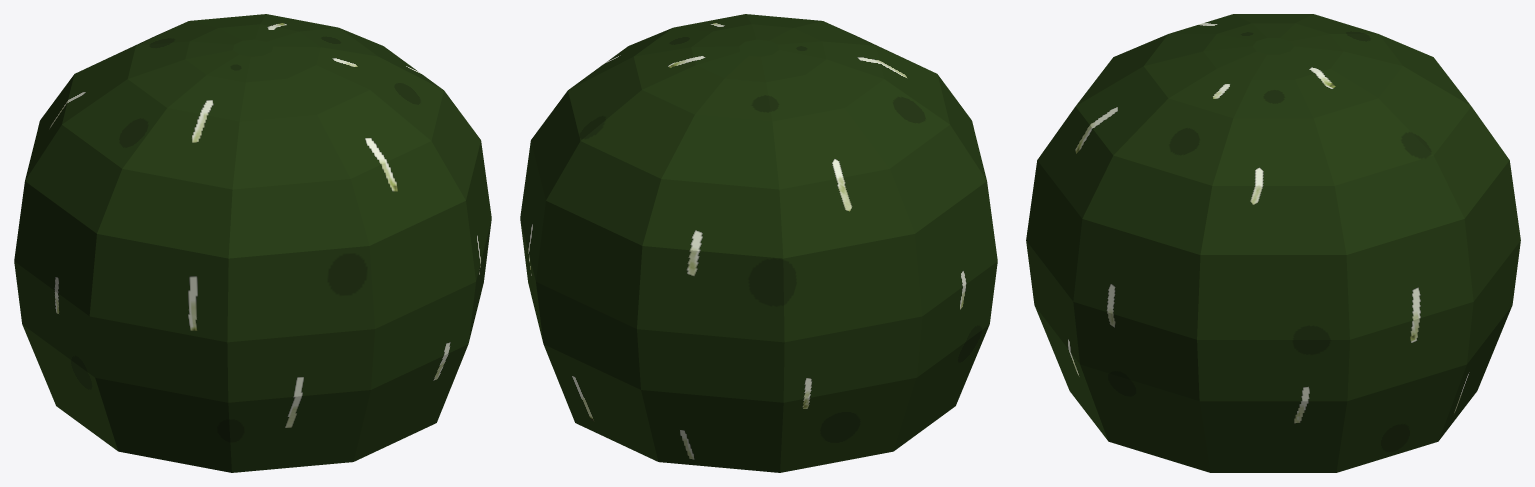
The model's file is cactus2.fbx.
The picture shows the model from 3 angles, left to right: view 1: azimuth 30°, elevation 25°; view 2: azimuth 150°, elevation 25°; view 3: azimuth 270°, elevation 25°; orthographic projection.
Visible parts, largest first — view 1: Cylinder; view 2: Cylinder; view 3: Cylinder.
Part boxes in pixels (left/top/right/bottom): Cylinder: left=14, top=14, right=491, bottom=472; Cylinder: left=520, top=14, right=997, bottom=472; Cylinder: left=1026, top=14, right=1520, bottom=472.
Bounding box in the file's own units: 231 × 187 × 243.
